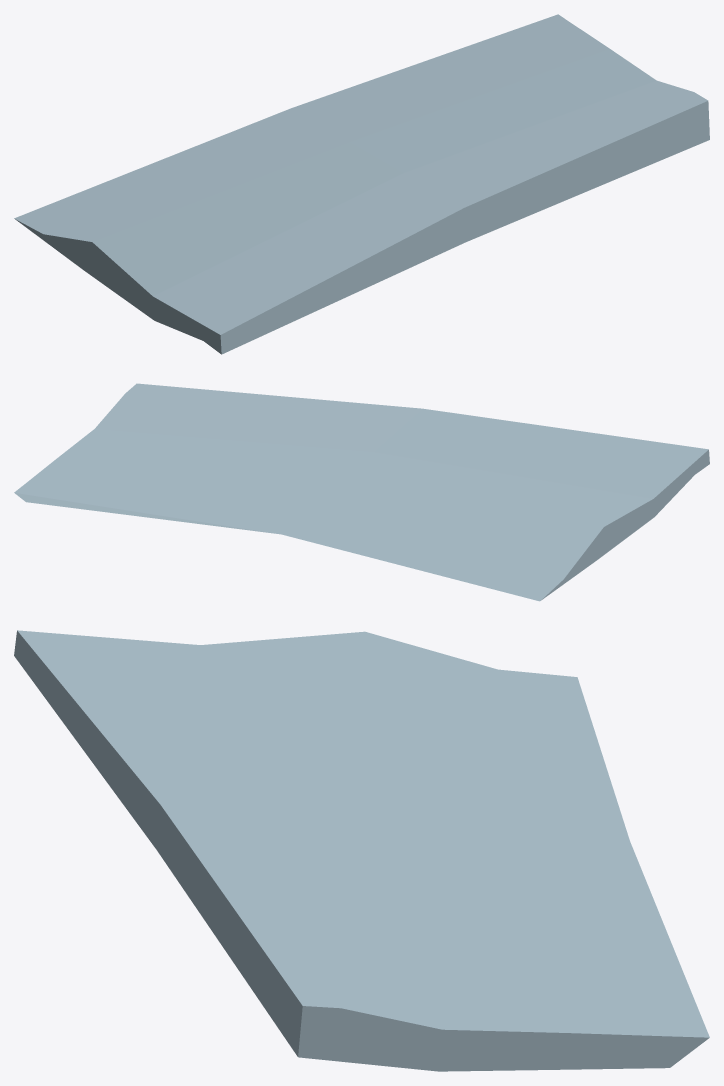
Rendered from su33d_flap_left.glb.
3 views of the same model, one above another, from view 1: azimuth 30°, elevation 25°; view 2: azimuth 150°, elevation 25°; view 3: azimuth 270°, elevation 25° (orthographic). The views are drawn at different scales.
Visible parts, largest first — view 1: 0_FlapLeft; view 2: 0_FlapLeft; view 3: 0_FlapLeft.
Part boxes in pixels (<box>): 0_FlapLeft: <box>14,14,709,354</box>; 0_FlapLeft: <box>14,383,709,601</box>; 0_FlapLeft: <box>14,630,709,1071</box>.
Bounding box in the file's own units: 1.49 × 0.1245 × 1.12.
